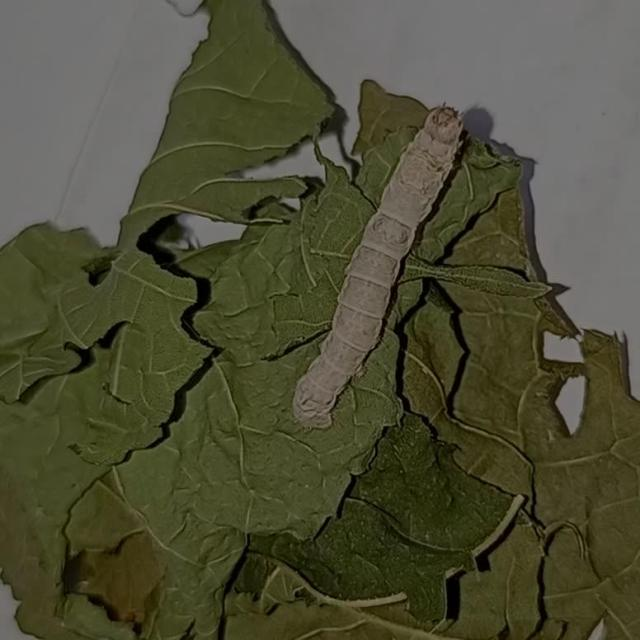Healthy: (281, 95, 482, 429)
